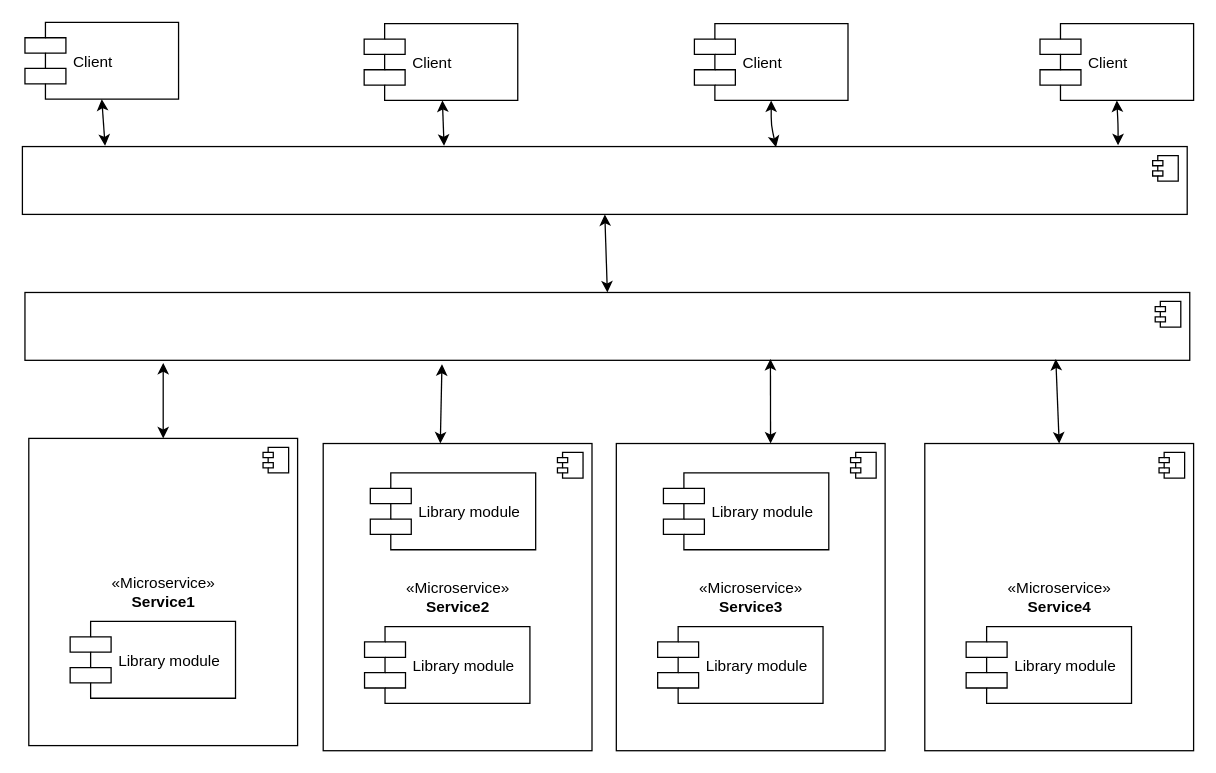
This 1216x773 diagram has some shape labels left out. The centre of each missing label's shape, as x and y in pixels:
"«API» Gateway" goes at [604,179].
"«messaging platform» Lightweight message broker" goes at [607,325].
